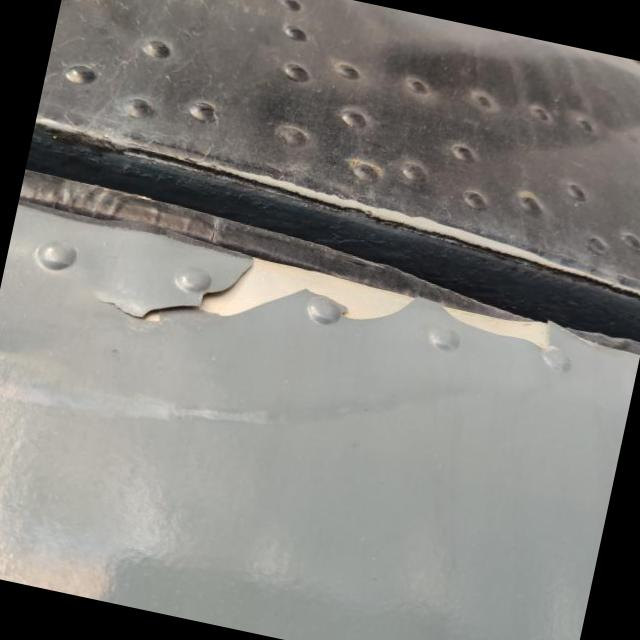Paint-off: (95, 228, 414, 320), (444, 307, 555, 353)
